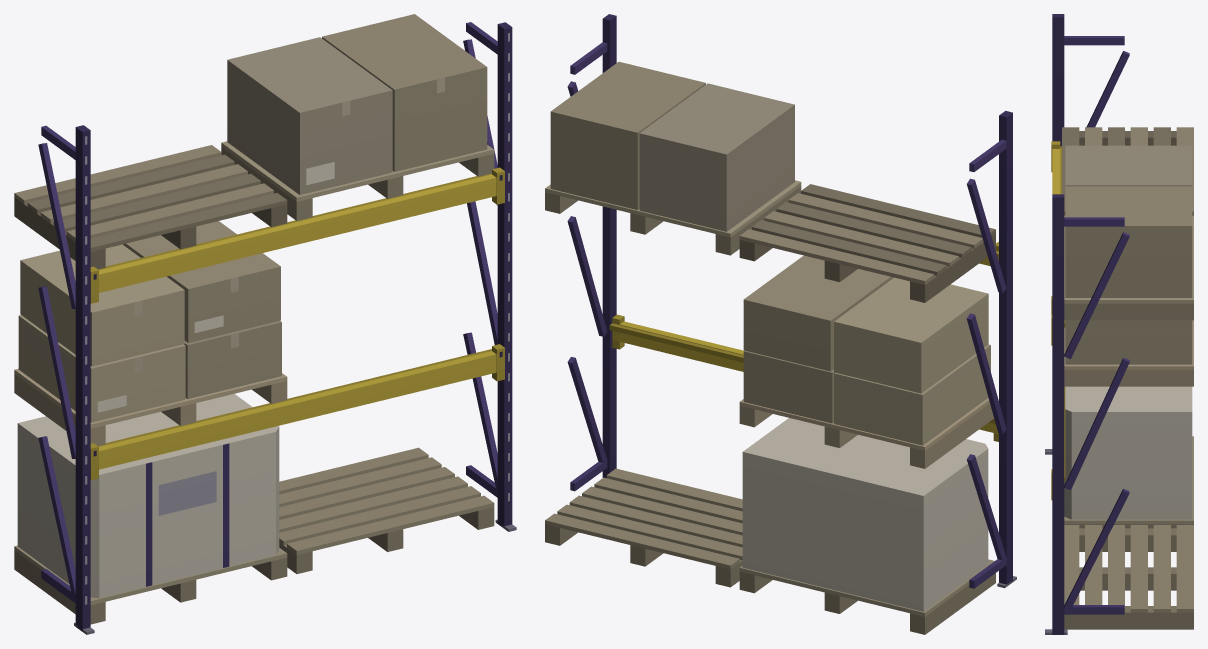
Rendered from pallet_racking_b.glb.
3 views of the same model, side by side, from view 1: azimuth 30°, elevation 25°; view 2: azimuth 150°, elevation 25°; view 3: azimuth 270°, elevation 25° (orthographic). The views are drawn at different scales.
Parts seen in each view (by area): view 1: pallet_racking; view 2: pallet_racking; view 3: pallet_racking.
Boxes of the visible parts, left/top/right/bottom form: pallet_racking: left=14, top=14, right=516, bottom=634; pallet_racking: left=545, top=14, right=1016, bottom=634; pallet_racking: left=1045, top=14, right=1193, bottom=634.
Size of the model in its own units: 2.7 by 3 by 0.925.
